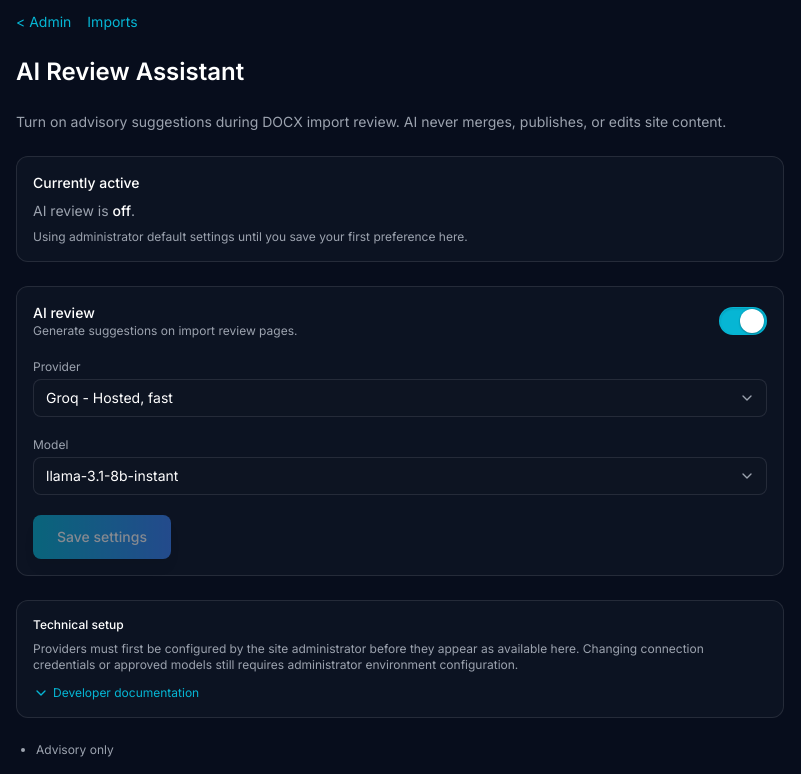
Test: Admin AI settings page › keeps or resets model when switching providers
Expected: the dropdown with test id "ai-model-select" shows "llama-3.1-8b-instant", [33, 457, 767, 495]
Step 1. Select "OpenRouter - Hosted model gateway" in the dropdown with test id "ai-provider-select" → x=400, y=398, box [33, 379, 767, 417]
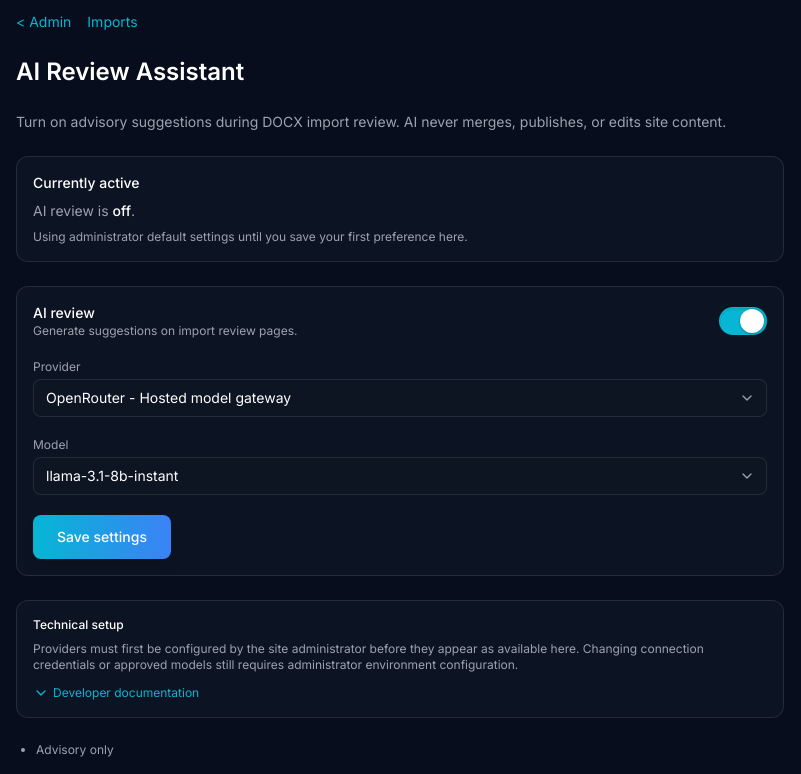
Expected: the dropdown with test id "ai-model-select" shows "llama-3.1-8b-instant", [33, 457, 767, 495]
Step 2. Select "Ollama - Private/self-hosted" in the dropdown with test id "ai-provider-select" → x=400, y=398, box [33, 379, 767, 417]
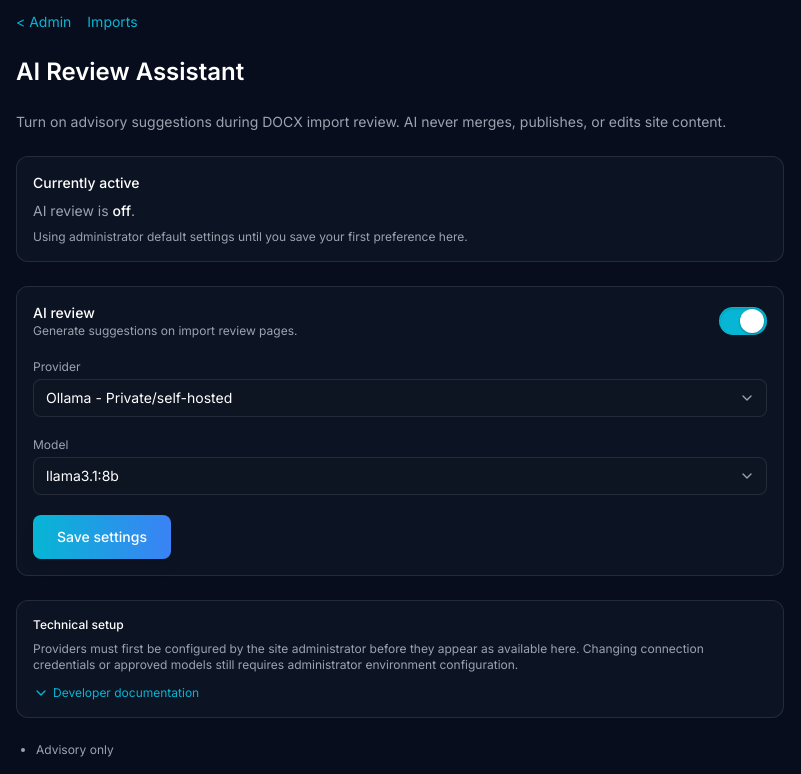
Result: the dropdown with test id "ai-model-select" shows "llama3.1:8b" at [33, 457, 767, 495]
